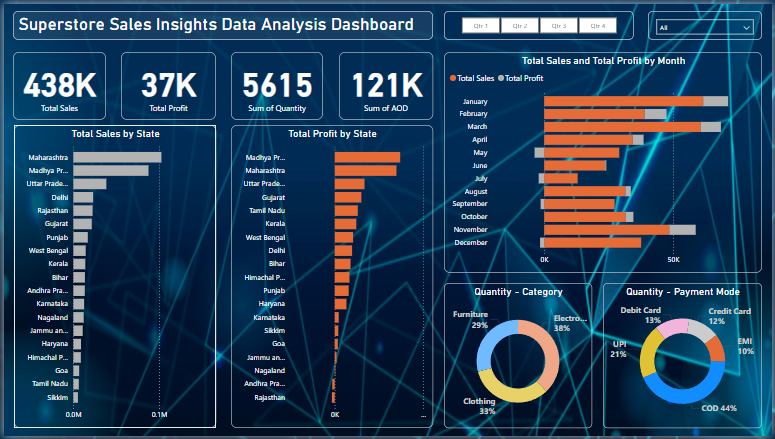

This screenshot's page, from the dashboard's own definition file:
{"tool":"powerbi","page":{"name":"Page 1","canvas":[1280,720],"ordinal":0},"visuals":[{"type":"textbox","title":"Superstore Sales Insights Data Analysis Dashboard ","box":[15,11.7,700,48.3],"z":0},{"type":"donutChart","title":"Quantity - Category ","fields":{"Category":["Details.Category"],"Y":["Sum(Details.Amount)"]},"box":[733.3,465,246.7,241.7],"z":1000},{"type":"donutChart","title":"Quantity - Payment Mode","fields":{"Category":["Details.PaymentMode"],"Y":["Sum(Details.Quantity)"]},"box":[998.3,465,265,241.7],"z":2000},{"type":"card","fields":{"Values":["Details.Total Sales"]},"box":[15,80,155,113.3],"z":3000},{"type":"card","fields":{"Values":["Details.Total Profit"]},"box":[195,80,158.3,113.3],"z":4000},{"type":"card","fields":{"Values":["Sum(Details.Quantity)"]},"box":[378.3,80,153.3,113.3],"z":5000},{"type":"card","fields":{"Values":["Sum(Details.AOD)"]},"box":[558.3,80,156.7,113.3],"z":6000},{"type":"slicer","fields":{"Values":["Orders.Order Date.Variation.Date Hierarchy.Quarter"]},"box":[732.8,11.3,297.6,68],"z":7000},{"type":"slicer","fields":{"Values":["Orders.State"]},"box":[1072.5,11.2,190,47.5],"z":8000},{"type":"barChart","fields":{"Category":["Orders.Order Date.Variation.Date Hierarchy.Quarter","Orders.Order Date.Variation.Date Hierarchy.Month"],"Y":["Details.total sales","Details.total profit"]},"box":[732.8,89.3,530.1,358.6],"z":9000},{"type":"barChart","fields":{"Y":["Details.Total Sales"],"Category":["Orders.State","Orders.City"]},"box":[16.7,201.7,336.7,505],"z":10000},{"type":"barChart","fields":{"Category":["Orders.State","Orders.City"],"Y":["Details.Total Profit"]},"box":[378.3,201.7,336.7,505],"z":11000}]}

Visuals, with their boxes in screenshot pixels (x1, y1, x2, y2), scaled from the page's 1280x720 canvas onto the 775x439 screenshot:
"Superstore Sales Insights Data Analysis Dashboard " textbox: [left=9, top=7, right=433, bottom=37]
"Quantity - Category " donutChart: [left=444, top=284, right=593, bottom=431]
"Quantity - Payment Mode" donutChart: [left=604, top=284, right=765, bottom=431]
card - Details.Total Sales: [left=9, top=49, right=103, bottom=118]
card - Details.Total Profit: [left=118, top=49, right=214, bottom=118]
card - Sum(Details.Quantity): [left=229, top=49, right=322, bottom=118]
card - Sum(Details.AOD): [left=338, top=49, right=433, bottom=118]
slicer - Orders.Order Date.Variation.Date Hierarchy.Quarter: [left=444, top=7, right=624, bottom=48]
slicer - Orders.State: [left=649, top=7, right=764, bottom=36]
barChart - Orders.Order Date.Variation.Date Hierarchy.Quarter x Orders.Order Date.Variation.Date Hierarchy.Month: [left=444, top=54, right=765, bottom=273]
barChart - Details.Total Sales x Orders.State: [left=10, top=123, right=214, bottom=431]
barChart - Orders.State x Orders.City: [left=229, top=123, right=433, bottom=431]
